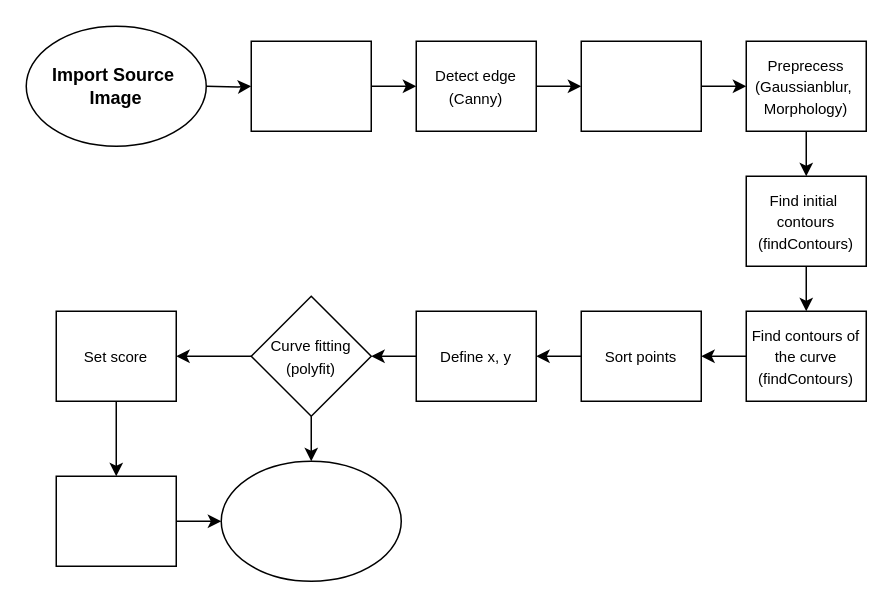
This 893x608 diagram has some shape labels left out. Here are the shapes that lost their labels. From the top down, the centre of each, then its label:
At point 310,85: "Split image channel (red channel)".
At point 640,85: "Select ROI".
At point 115,520: "Set level".
At point 310,520: "Display final Image".
